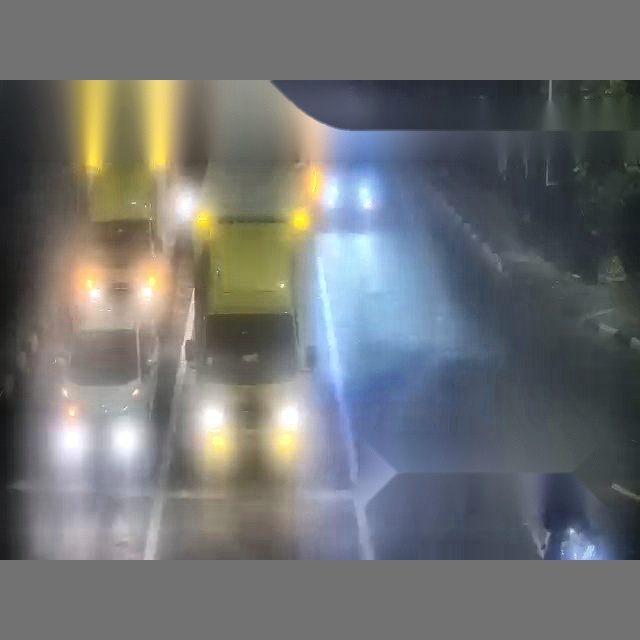Bis: (188, 118, 638, 555)
